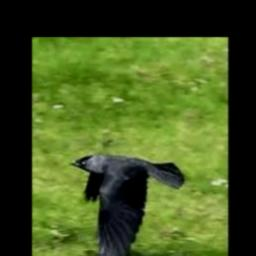Crow: (70, 153, 185, 256)
